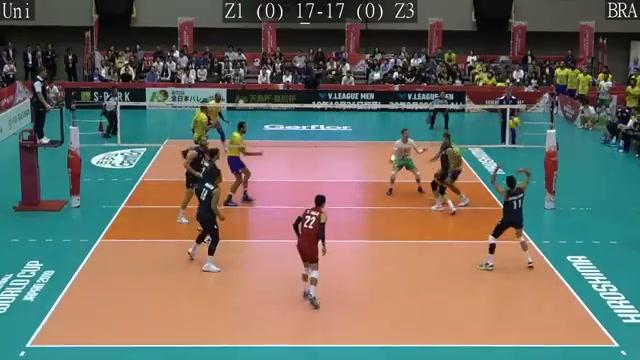ball: (506, 116, 523, 130)
